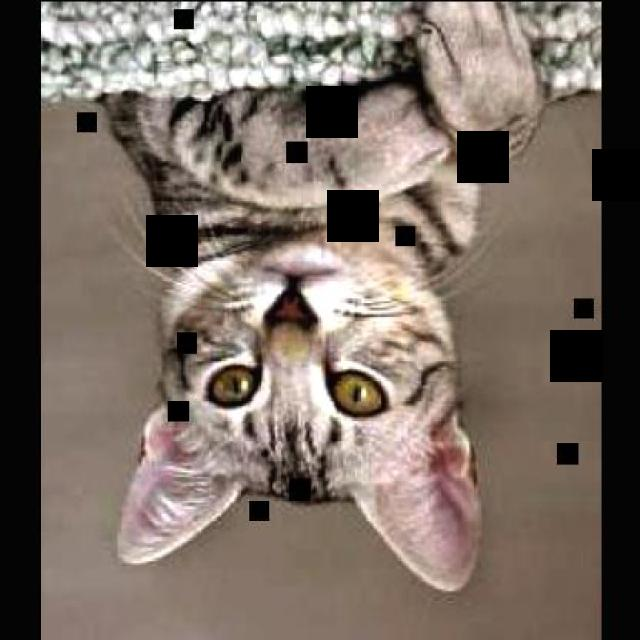unauthorized: (98, 77, 490, 594)
